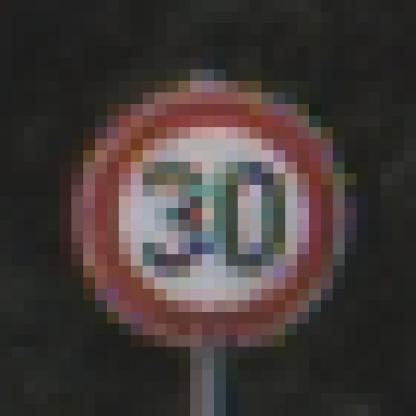Speed Limit 30: (92, 95, 334, 344)
